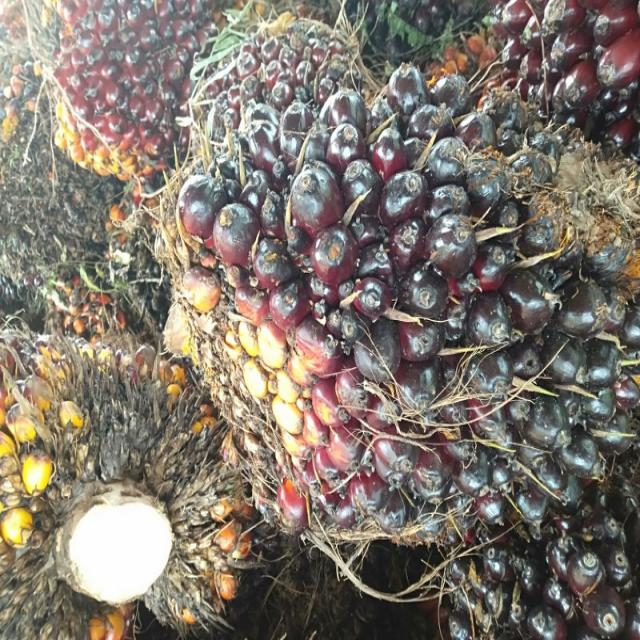fraksi 1: (152, 81, 640, 539)
